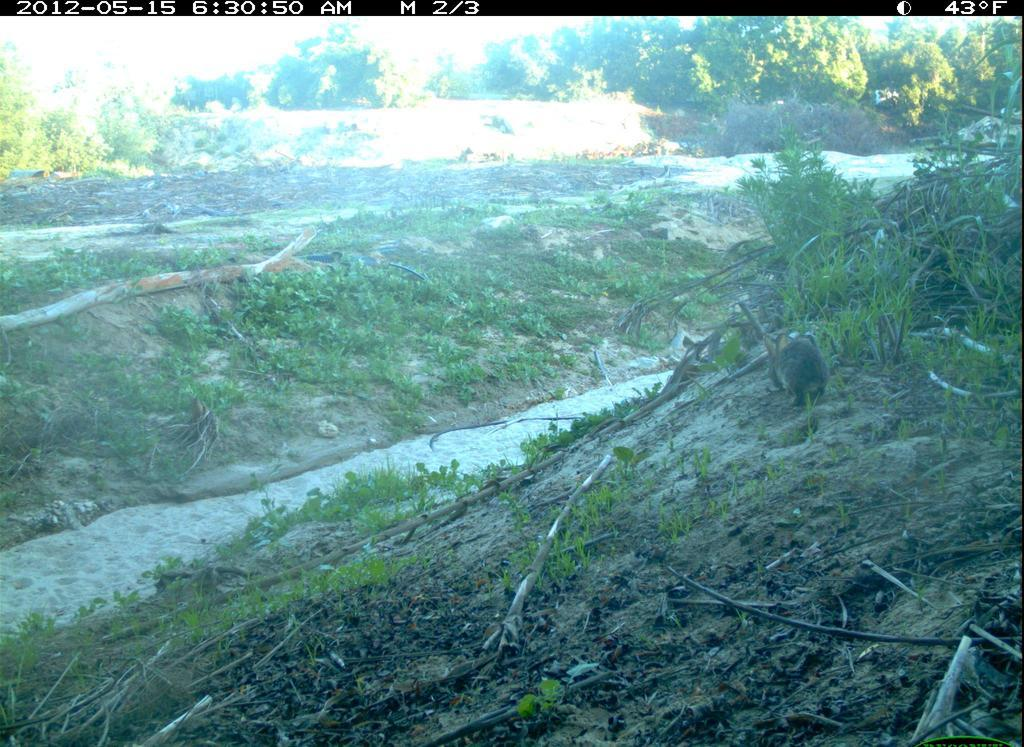rabbit: (753, 312, 852, 432)
